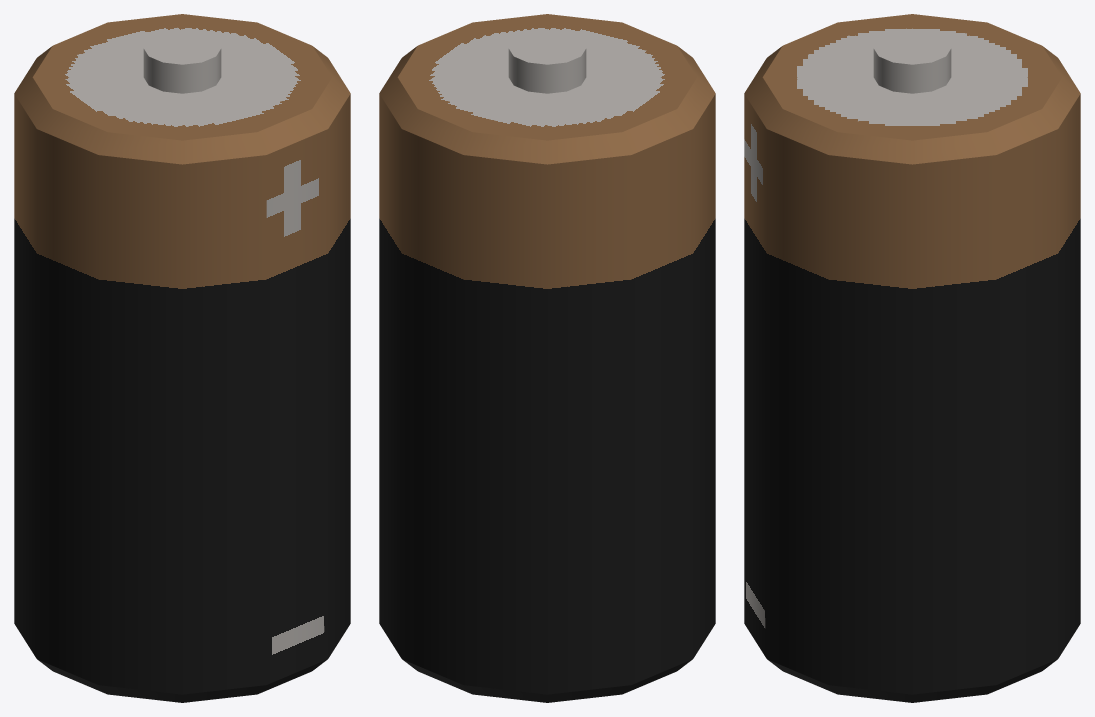
The model's file is d_battery.glb.
3 renders of one model, left to right at view 1: azimuth 30°, elevation 25°; view 2: azimuth 150°, elevation 25°; view 3: azimuth 270°, elevation 25°, orthographic.
Parts seen in each view (by area): view 1: Cylinder; view 2: Cylinder; view 3: Cylinder.
Boxes of the visible parts, left/top/right/bottom form: Cylinder: left=14, top=14, right=350, bottom=702; Cylinder: left=379, top=14, right=715, bottom=702; Cylinder: left=744, top=14, right=1080, bottom=702.
Bounding box in the file's own units: 3.25 × 6.3 × 3.25.
Materials: 1 (1 with a texture image).
